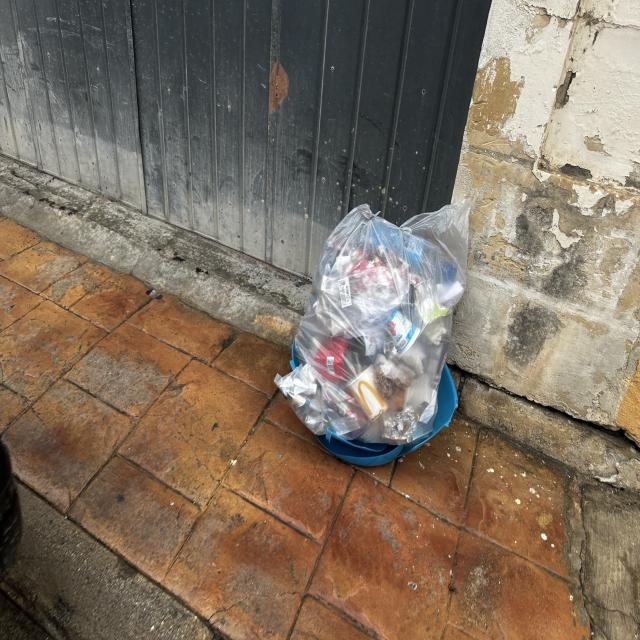Recyclable Material -Grey Bags-: (274, 198, 472, 446)
